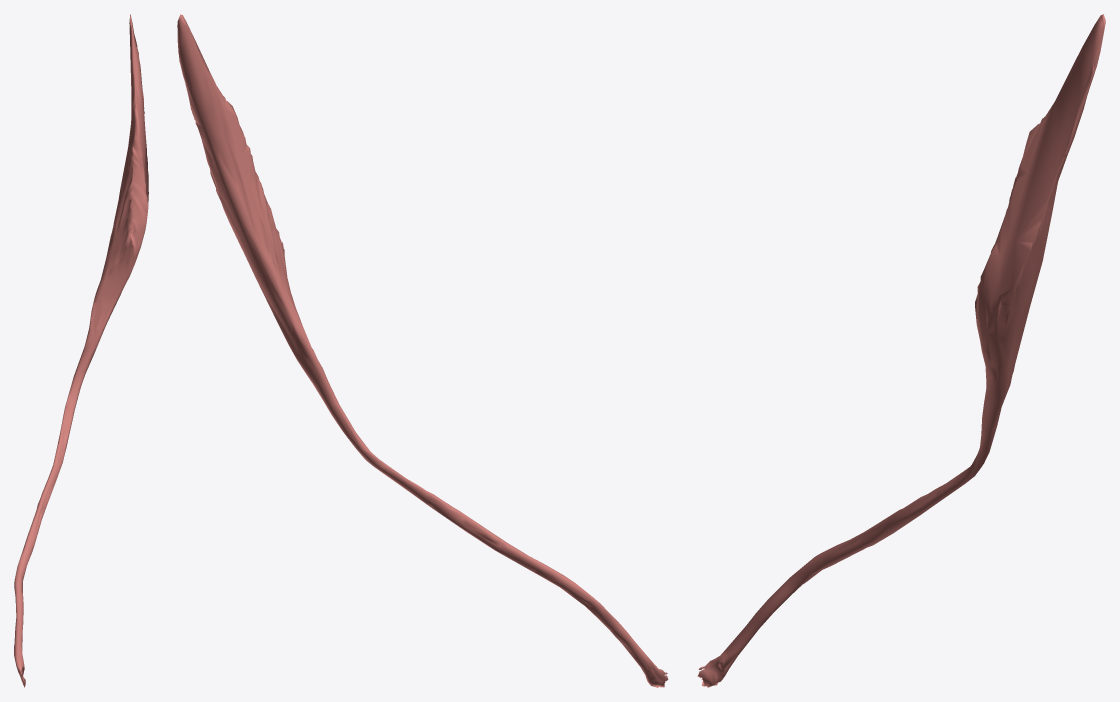
3 renders of one model, left to right at view 1: azimuth 30°, elevation 25°; view 2: azimuth 150°, elevation 25°; view 3: azimuth 270°, elevation 25°, orthographic. The views are drawn at different scales.
Parts seen in each view (by area): view 1: ZA_cd37e9c12210b5e6; view 2: ZA_cd37e9c12210b5e6; view 3: ZA_cd37e9c12210b5e6.
Boxes of the visible parts, <box> form: ZA_cd37e9c12210b5e6: <box>14,14,148,687</box>; ZA_cd37e9c12210b5e6: <box>177,14,668,687</box>; ZA_cd37e9c12210b5e6: <box>697,14,1105,687</box>.
Bounding box in the file's own units: 0.0983 × 0.2091 × 0.0906.
